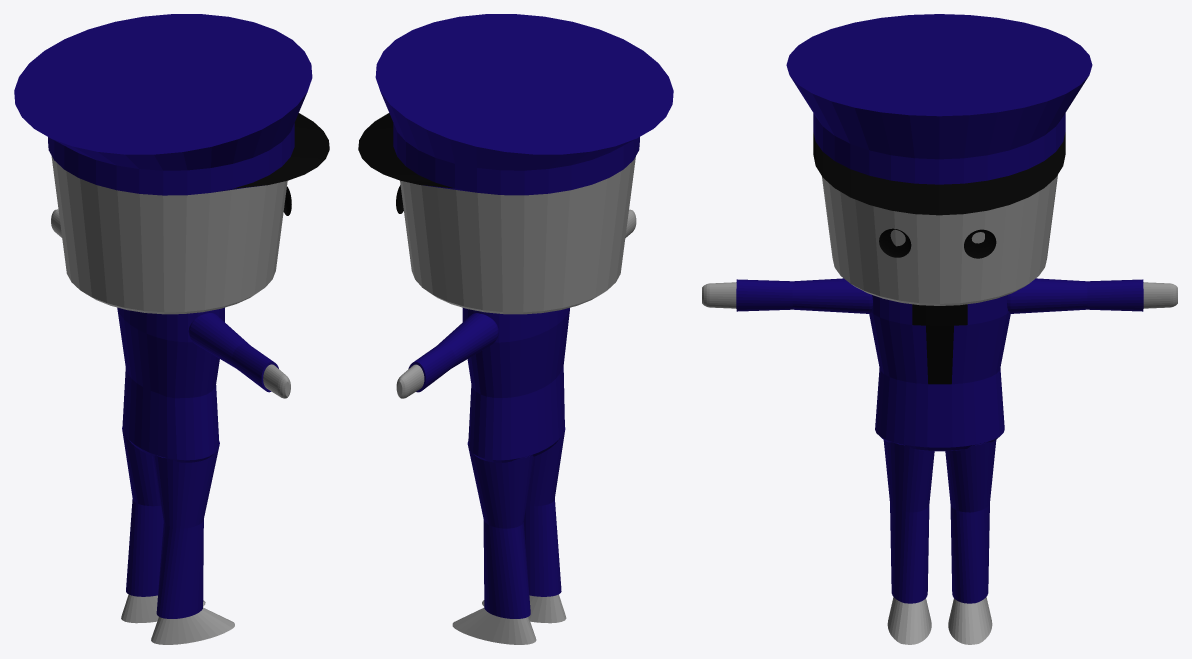
Rendered from basicPostman.fbx.
3 views of the same model, side by side, from view 1: azimuth 30°, elevation 25°; view 2: azimuth 150°, elevation 25°; view 3: azimuth 270°, elevation 25° (orthographic). The views are drawn at different scales.
Parts seen in each view (by area): view 1: Hat.001, Headd.002, Cylinder.049, Cylinder.052, Cylinder.053, Cylinder.050, Cylinder.058, Cylinder.057, Cylinder.055; view 2: Hat.001, Headd.002, Cylinder.049, Cylinder.053, Cylinder.052, Cylinder.051, Cylinder.057, Cylinder.058, Cylinder.056; view 3: Hat.001, Headd.002, Cylinder.049, Cylinder.052, Cylinder.053, Cylinder.051, Cylinder.050, Cylinder.057, Cylinder.058, Eyes.007, Cylinder.055, Cylinder.056.
Part boxes in pixels (x1,y1,x2,y2): Hat.001: (14, 14, 329, 195); Headd.002: (51, 156, 287, 314); Cylinder.049: (117, 307, 224, 462); Cylinder.052: (152, 442, 219, 618); Cylinder.053: (122, 426, 163, 596); Cylinder.050: (188, 313, 278, 392); Cylinder.058: (151, 607, 234, 644); Cylinder.057: (121, 594, 205, 623); Cylinder.055: (263, 364, 290, 398); Hat.001: (358, 14, 673, 195); Headd.002: (400, 156, 635, 314); Cylinder.049: (462, 308, 569, 462); Cylinder.053: (467, 441, 534, 618); Cylinder.052: (523, 427, 565, 596); Cylinder.051: (408, 313, 498, 392); Cylinder.057: (452, 608, 536, 644); Cylinder.058: (482, 594, 566, 623); Cylinder.056: (396, 364, 424, 398); Hat.001: (786, 14, 1092, 215); Headd.002: (822, 175, 1057, 305); Cylinder.049: (869, 295, 1010, 451); Cylinder.052: (883, 440, 934, 603); Cylinder.053: (945, 440, 996, 603); Cylinder.051: (1007, 278, 1143, 313); Cylinder.050: (736, 278, 872, 313); Cylinder.057: (948, 597, 992, 644); Cylinder.058: (887, 597, 931, 644); Eyes.007: (879, 228, 996, 258); Cylinder.055: (702, 282, 736, 308); Cylinder.056: (1143, 282, 1177, 308).
Bounding box in the file's own units: 239 × 453 × 346.
